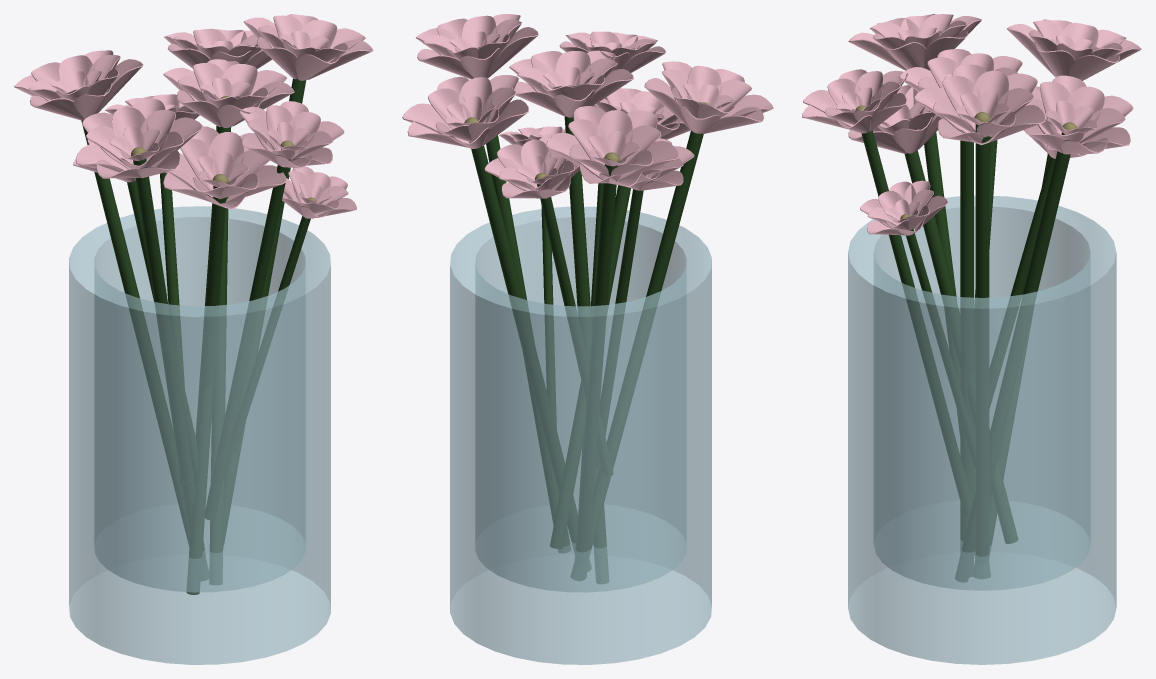
The model's file is flores.fbx.
The picture shows the model from 3 angles, left to right: view 1: azimuth 30°, elevation 25°; view 2: azimuth 150°, elevation 25°; view 3: azimuth 270°, elevation 25°; orthographic projection. The views are drawn at different scales.
Visible parts, largest first — view 1: Cylinder.005, Cylinder.010, Cylinder.009, Cylinder.011, Cylinder.013, Cylinder.012, Cylinder.007, Cylinder.008, Cylinder.016, Cylinder.014, Cylinder.015; view 2: Cylinder.005, Cylinder.009, Cylinder.008, Cylinder.010, Cylinder.012, Cylinder.007, Cylinder.014, Cylinder.013, Cylinder.015, Cylinder.011, Cylinder.016; view 3: Cylinder.005, Cylinder.007, Cylinder.008, Cylinder.011, Cylinder.012, Cylinder.010, Cylinder.009, Cylinder.013, Cylinder.016, Cylinder.014, Cylinder.015.
Boxes of the visible parts, bbox=[...] form: Cylinder.005: bbox=[69, 206, 330, 664]; Cylinder.010: bbox=[75, 98, 206, 564]; Cylinder.009: bbox=[14, 50, 208, 580]; Cylinder.011: bbox=[205, 101, 344, 519]; Cylinder.013: bbox=[163, 126, 286, 439]; Cylinder.012: bbox=[163, 59, 294, 594]; Cylinder.007: bbox=[223, 14, 373, 546]; Cylinder.008: bbox=[164, 28, 271, 584]; Cylinder.016: bbox=[229, 166, 356, 451]; Cylinder.014: bbox=[105, 94, 199, 483]; Cylinder.015: bbox=[73, 139, 197, 476]; Cylinder.005: bbox=[450, 206, 711, 664]; Cylinder.009: bbox=[545, 106, 679, 579]; Cylinder.008: bbox=[402, 75, 591, 571]; Cylinder.010: bbox=[571, 61, 773, 580]; Cylinder.012: bbox=[509, 50, 633, 583]; Cylinder.007: bbox=[416, 14, 570, 552]; Cylinder.014: bbox=[484, 133, 613, 476]; Cylinder.013: bbox=[550, 88, 690, 548]; Cylinder.015: bbox=[595, 137, 694, 467]; Cylinder.011: bbox=[559, 31, 665, 483]; Cylinder.016: bbox=[499, 126, 565, 429]; Cylinder.005: bbox=[848, 195, 1116, 664]; Cylinder.007: bbox=[914, 64, 1045, 563]; Cylinder.008: bbox=[955, 75, 1133, 581]; Cylinder.011: bbox=[802, 69, 972, 513]; Cylinder.012: bbox=[899, 49, 1022, 576]; Cylinder.010: bbox=[848, 14, 990, 578]; Cylinder.009: bbox=[973, 19, 1141, 578]; Cylinder.013: bbox=[848, 85, 1017, 543]; Cylinder.016: bbox=[860, 180, 975, 467]; Cylinder.014: bbox=[989, 130, 1086, 408]; Cylinder.015: bbox=[974, 86, 1040, 437].
Size of the model in its own units: 22.24 by 37.43 by 20.18.
